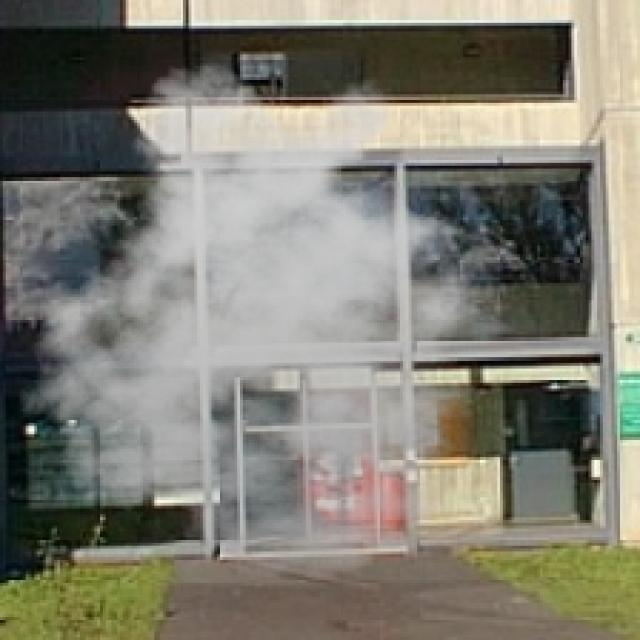smoke: (6, 60, 534, 580)
